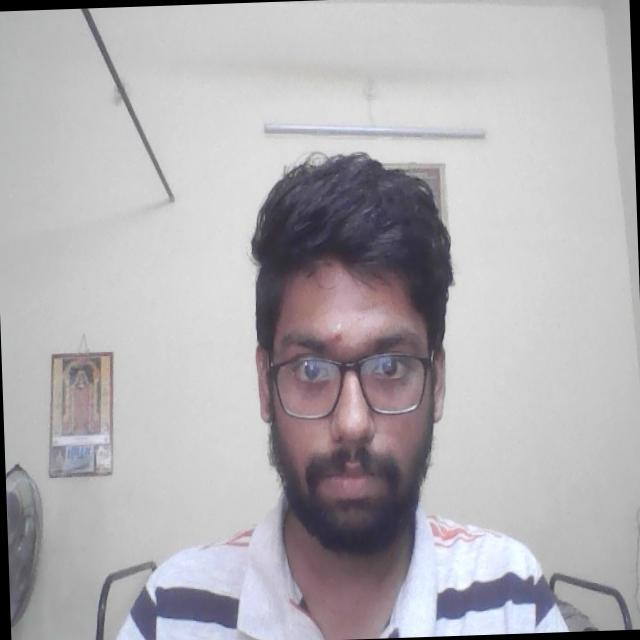Focused: (257, 272, 453, 530)
